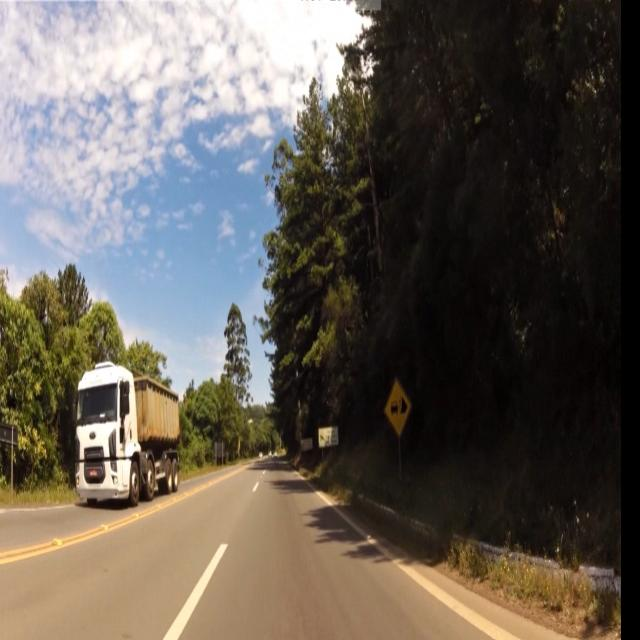A-27: (384, 378, 412, 439)
